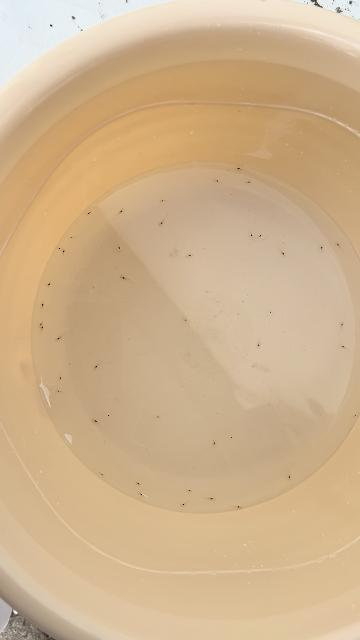benur: (119, 206, 128, 215), (157, 220, 165, 229), (67, 234, 75, 242), (188, 252, 196, 260), (85, 209, 92, 218), (154, 413, 160, 422), (214, 178, 221, 185), (117, 246, 124, 253), (158, 198, 164, 206), (282, 238, 288, 246), (40, 300, 46, 306), (91, 417, 97, 423), (269, 310, 275, 316), (229, 435, 235, 441), (92, 365, 97, 372), (210, 496, 217, 501), (212, 440, 219, 445), (119, 274, 125, 279), (45, 284, 51, 289), (137, 483, 143, 488), (188, 488, 193, 494), (281, 252, 287, 257), (258, 233, 264, 238), (257, 343, 262, 349), (62, 249, 67, 254), (55, 337, 60, 342), (140, 494, 145, 499), (287, 476, 292, 481), (340, 344, 345, 349), (250, 234, 255, 239), (236, 165, 240, 171), (180, 502, 184, 508), (340, 321, 344, 327), (335, 240, 339, 246), (320, 243, 324, 249), (205, 290, 209, 296), (58, 377, 62, 382), (55, 388, 59, 393), (238, 505, 242, 510), (57, 246, 61, 250), (38, 323, 42, 327), (101, 473, 105, 477), (41, 324, 44, 329), (355, 414, 358, 418), (247, 180, 250, 184), (107, 415, 110, 418)
